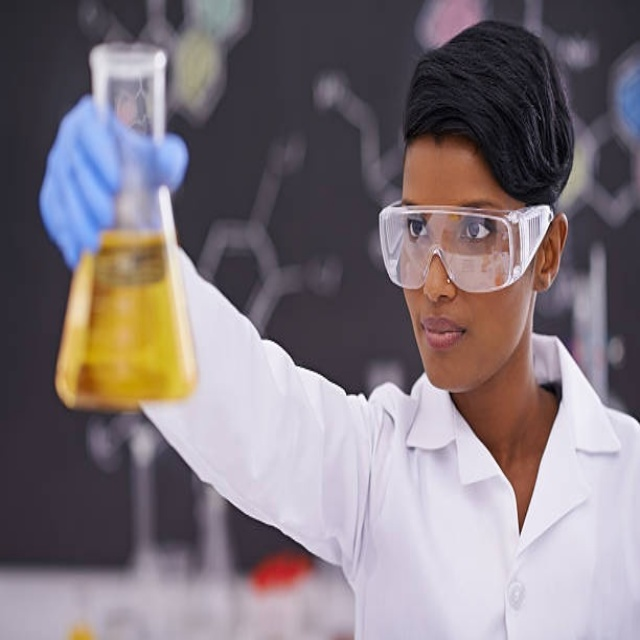Gafas: (379, 202, 552, 294)
Guantes: (40, 96, 188, 270)
Sin_mascara: (413, 300, 483, 377)
